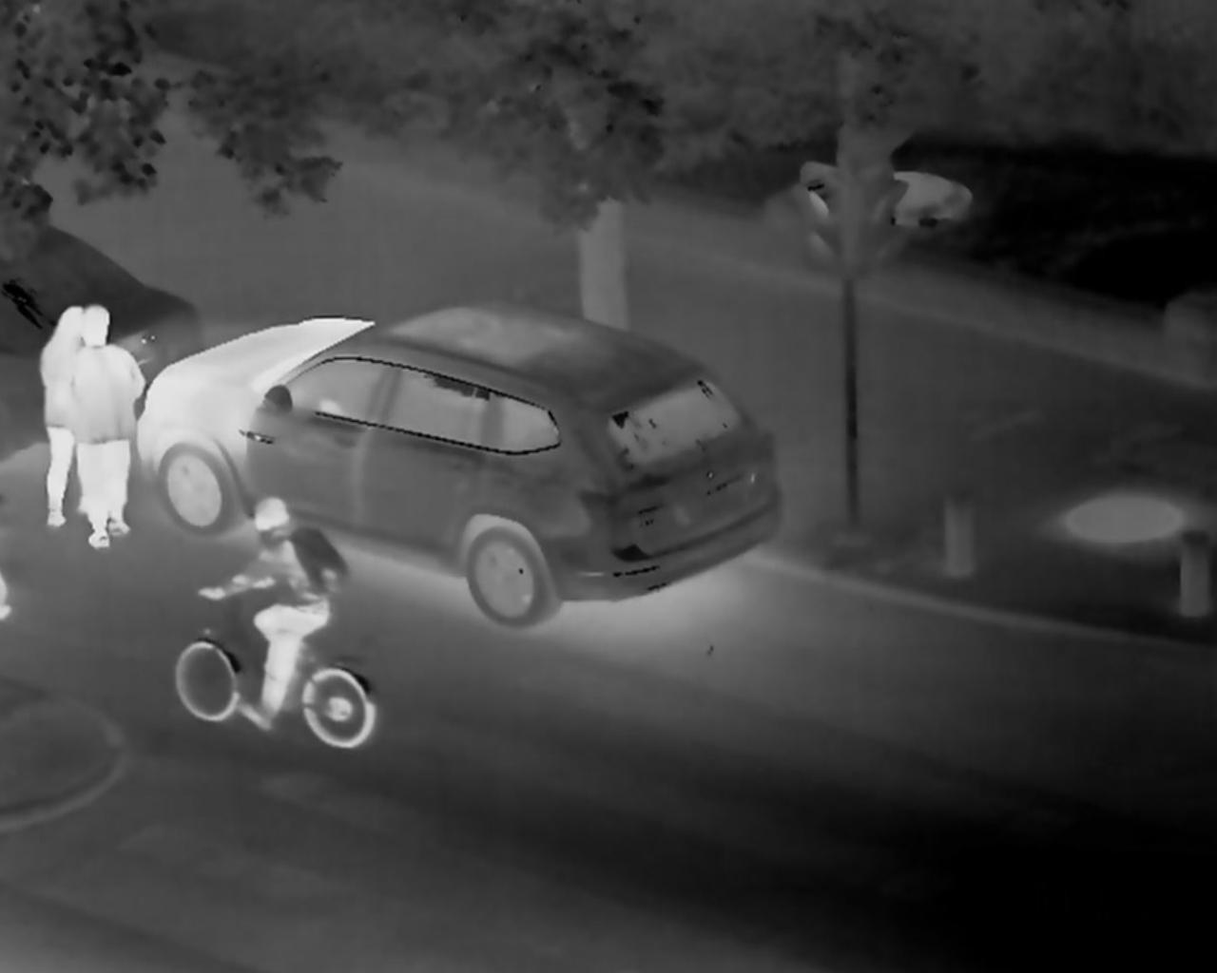person: (222, 473, 372, 763), (79, 283, 136, 551), (34, 299, 78, 525)
